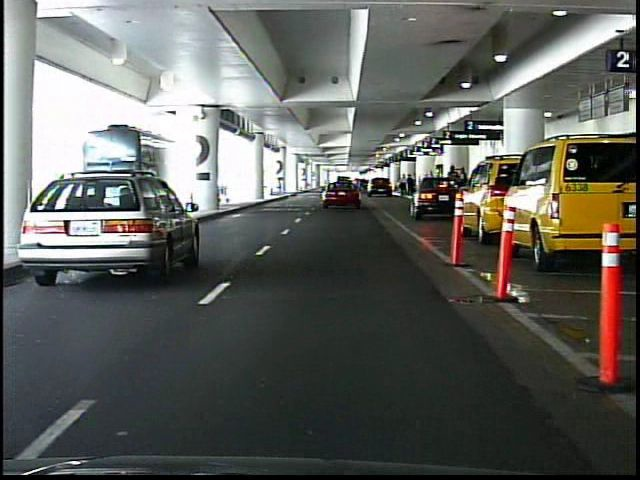person: (443, 162, 461, 211), (456, 166, 474, 212), (399, 173, 408, 196), (406, 173, 414, 196)
